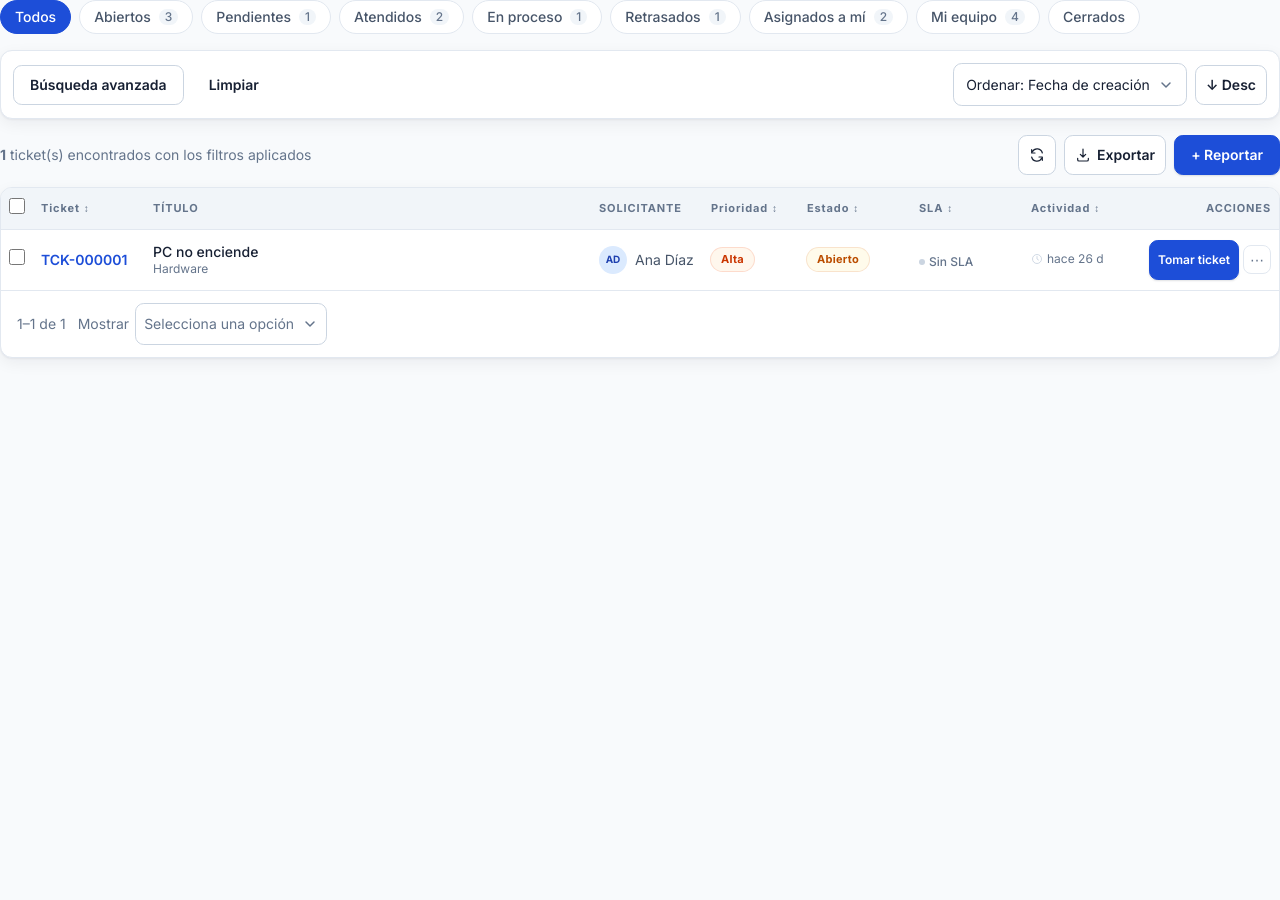
Scenario: Tickets › cancela un ticket con motivo y refresca el listado
The image size is (1280, 900).
Expected: the link "TCK-000001" is shown, [41, 250, 127, 269]
Click the button "⋯".
click(1257, 260)  # box [1243, 245, 1271, 274]
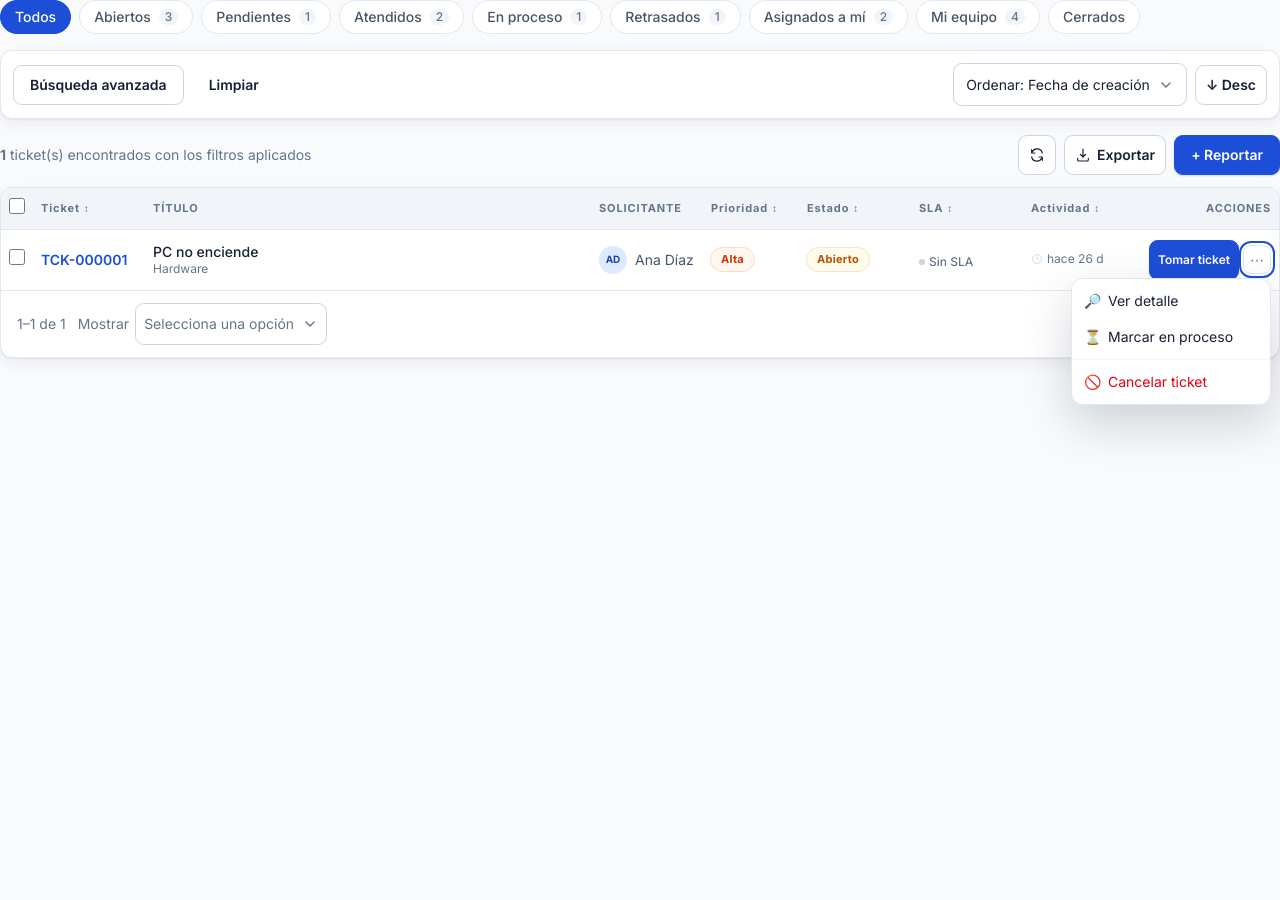
Click the menu item "🚫 Cancelar ticket".
click(1171, 382)  # box [1072, 364, 1270, 400]
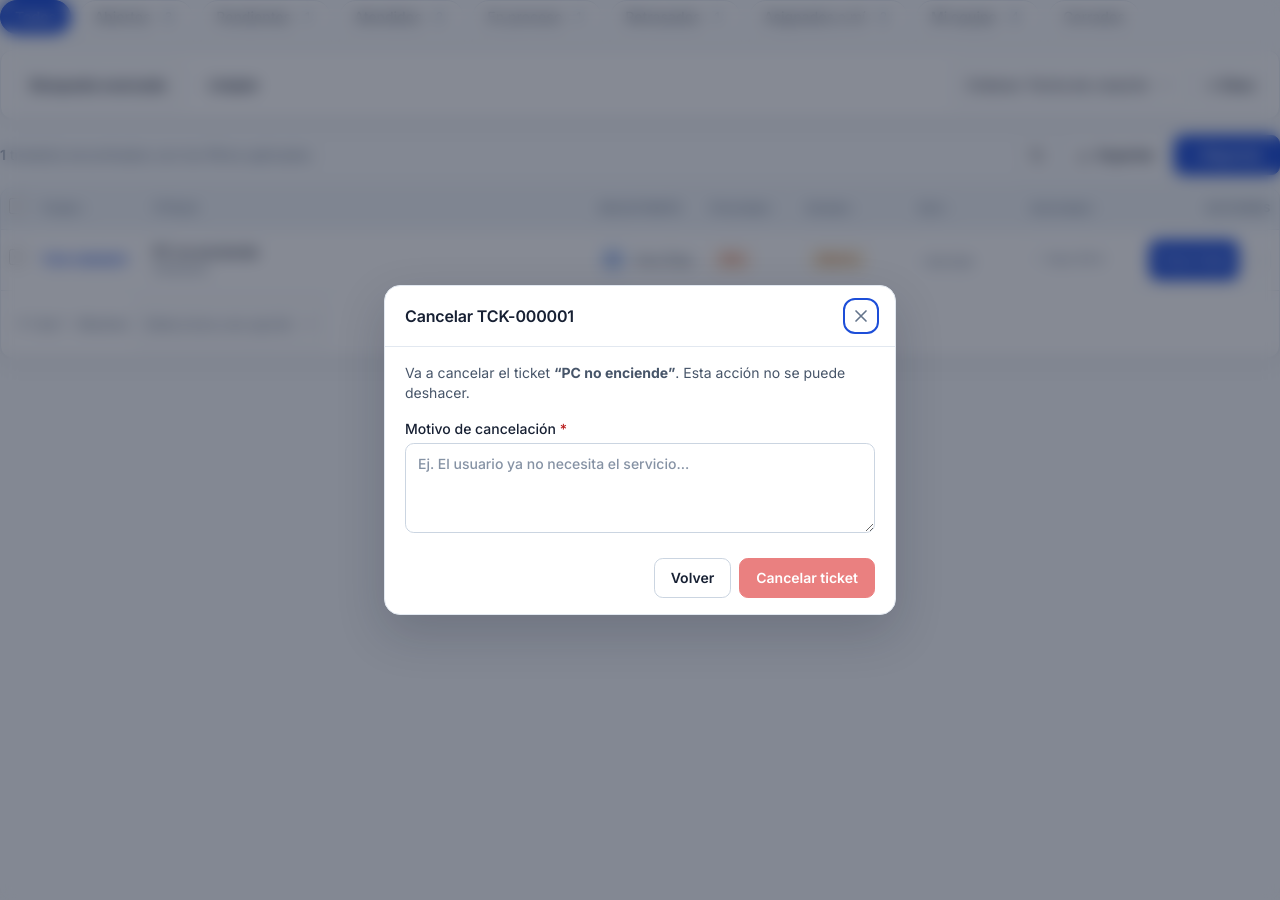
Expected: the button "Cancelar ticket" is disabled, [739, 558, 875, 598]
Type "El usuario ya no lo necesita" into the text box labelled "Motivo de cancelación *".
click(640, 488); type("El usuario ya no lo necesita")  # box [405, 443, 875, 533]
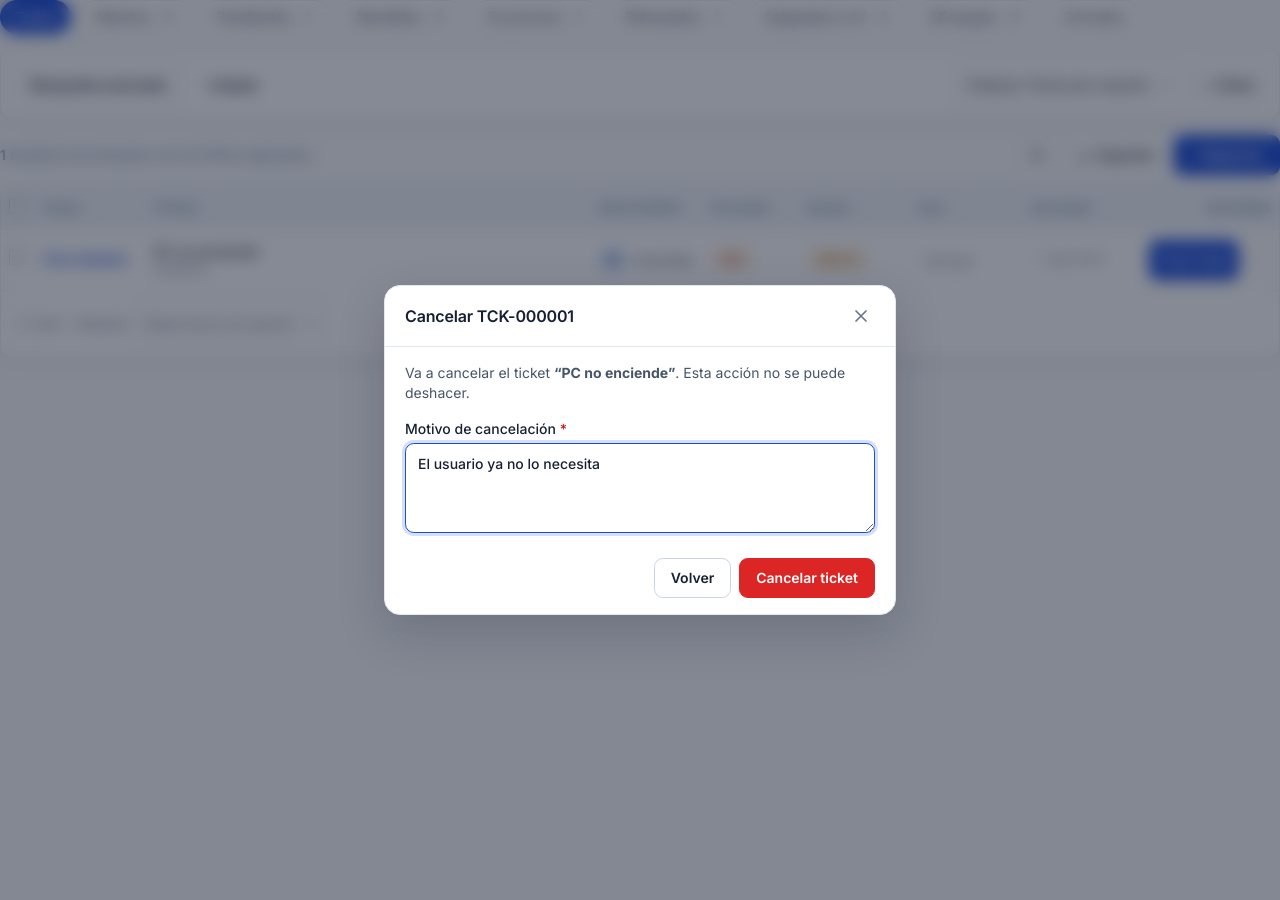
Click the button "Cancelar ticket".
click(807, 578)  # box [739, 558, 875, 598]
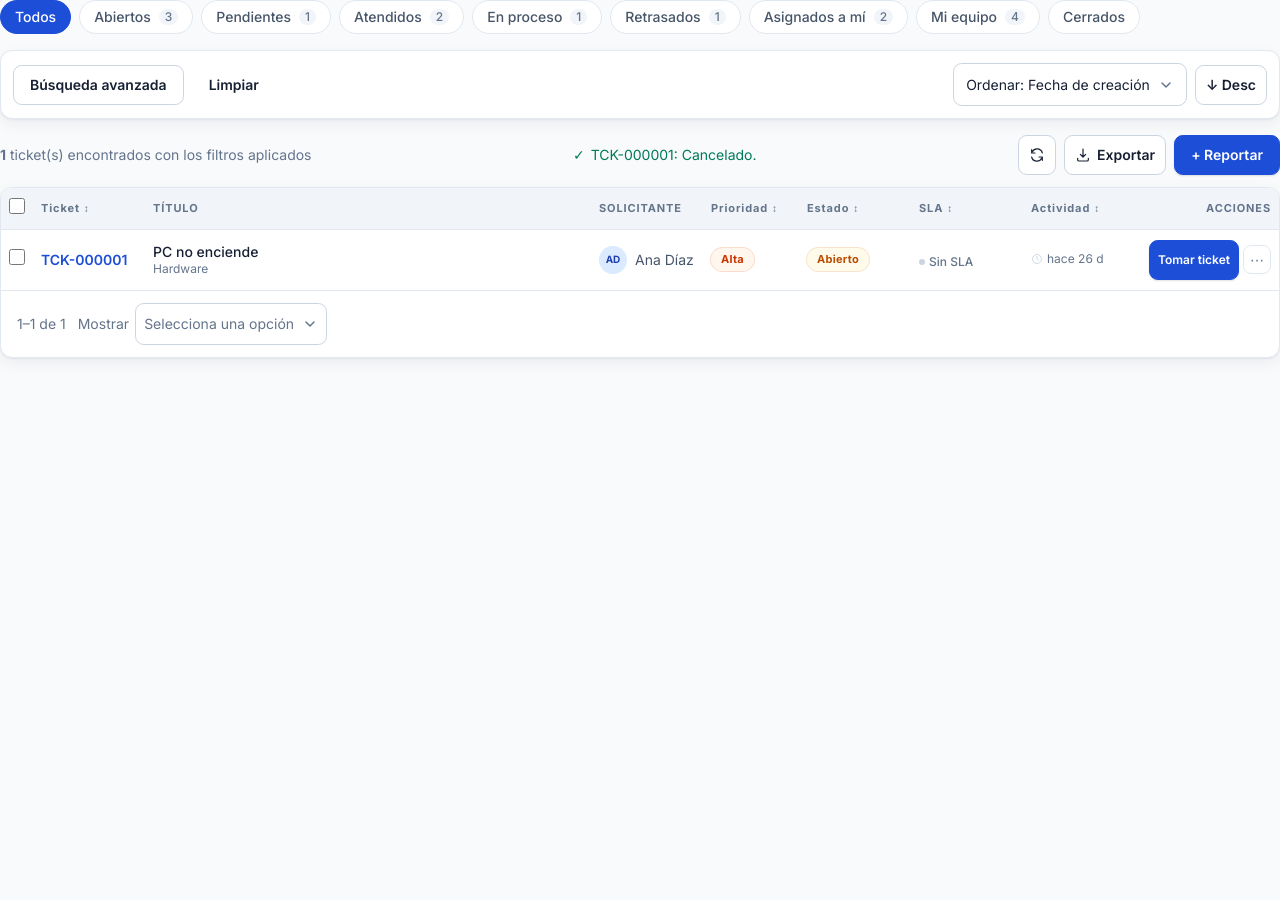
Expected: the heading "Cancelar TCK-000001" is gone
